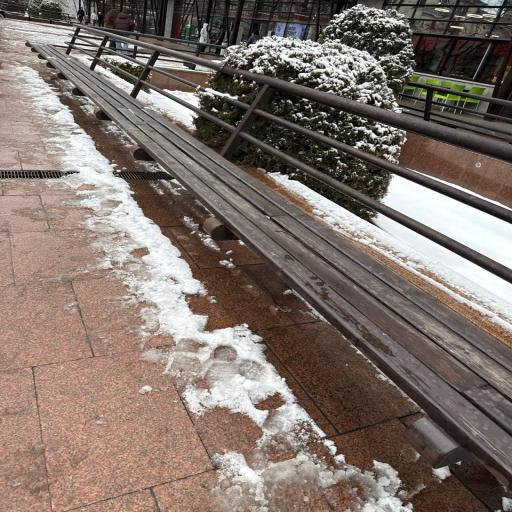shelf: (0, 179, 507, 511)
trash_bin: (28, 43, 511, 485)
